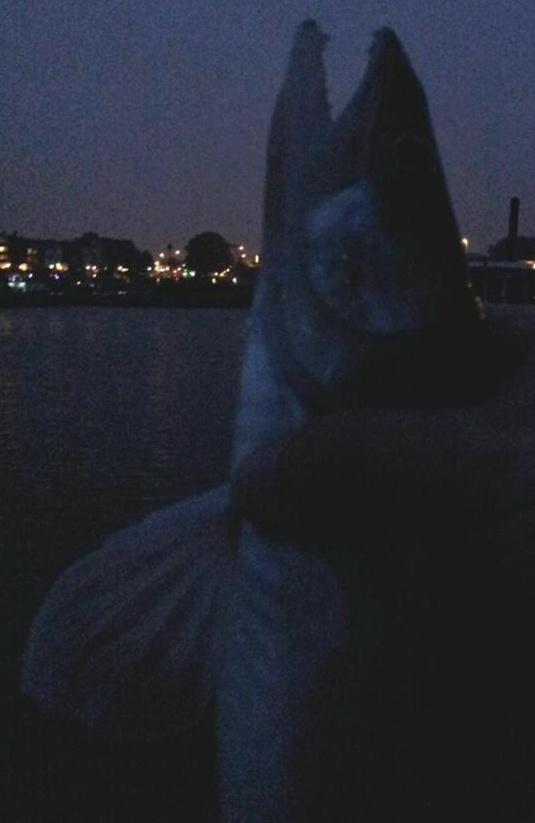Sander lucioperca: (20, 20, 515, 823)
